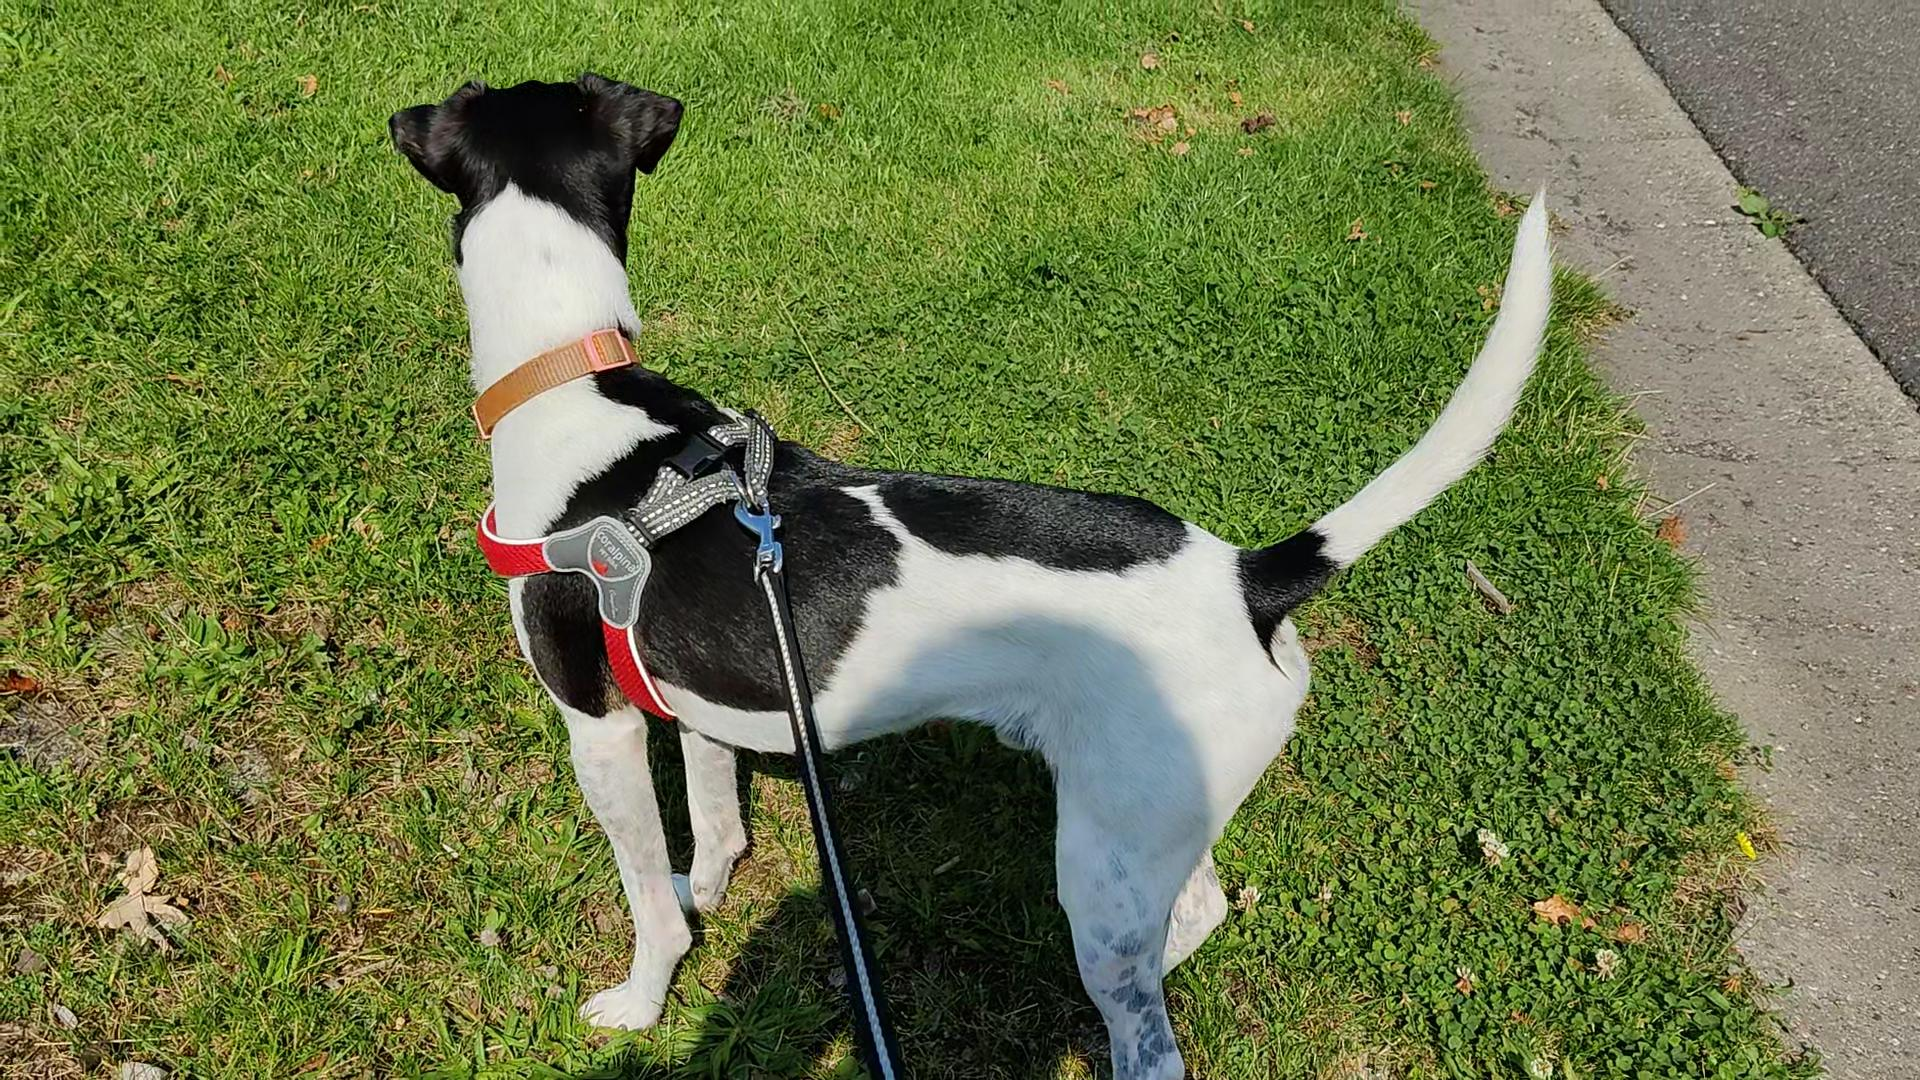Dog: (380, 67, 1560, 1079)
